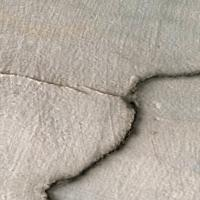crack: (37, 54, 199, 199)
